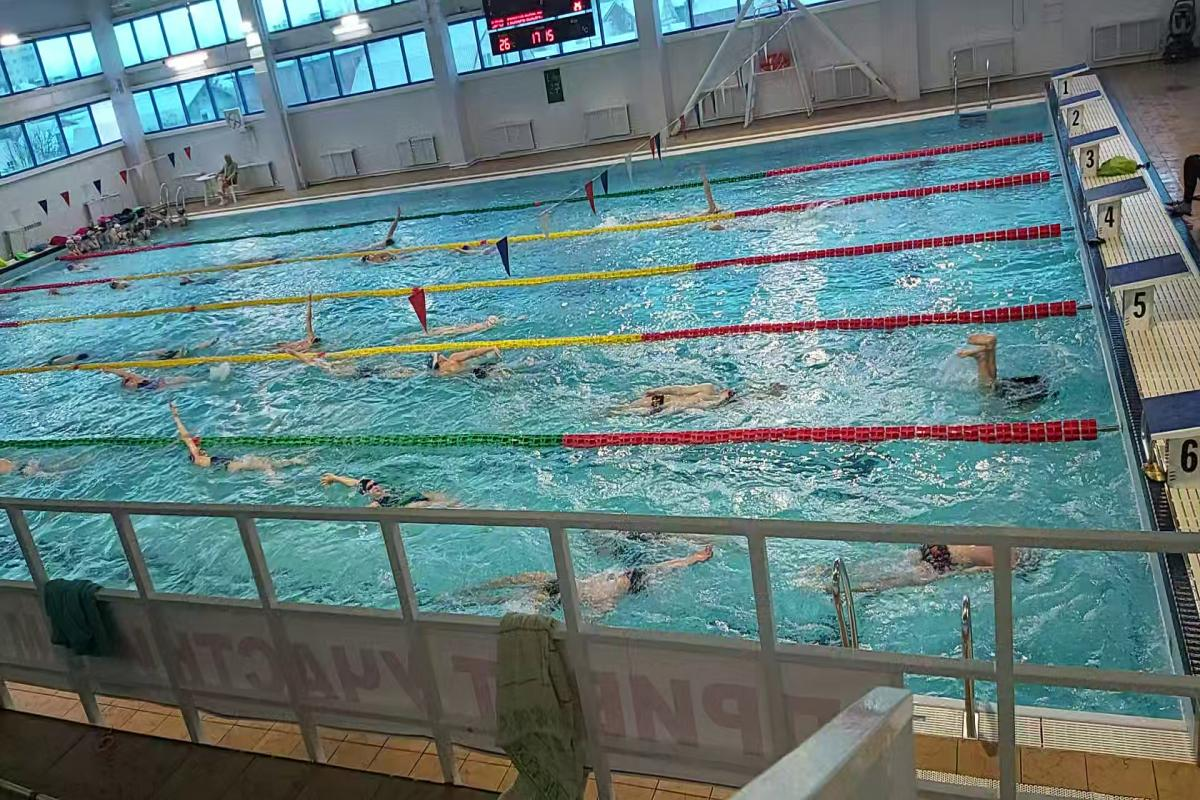swimmer: (481, 551, 724, 617), (811, 521, 996, 596), (170, 415, 302, 486), (314, 470, 480, 508), (620, 374, 738, 427), (100, 360, 220, 400), (305, 349, 420, 385), (431, 344, 516, 385), (270, 302, 329, 347), (367, 209, 409, 247), (359, 252, 410, 268)
